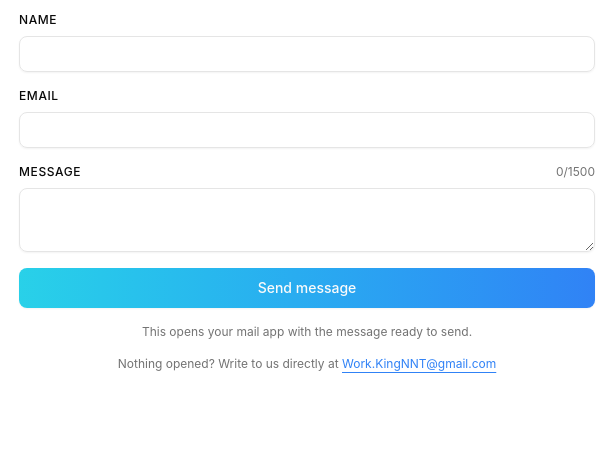
Scenario: ContactForm › clears the errors once the visitor fixes them
Click the button "Send message" at {"x": 307, "y": 288}, box [19, 268, 595, 308]
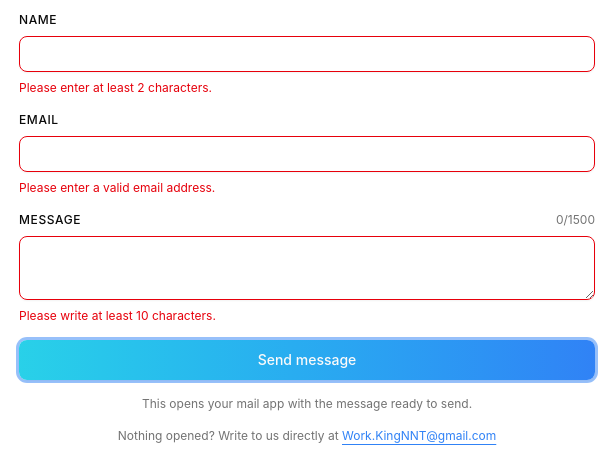
Expected: the text "Please enter a valid email address." is shown, [19, 180, 215, 195]
Type "Ann" into the field labelled "Name" at {"x": 307, "y": 54}, box [19, 36, 595, 72]
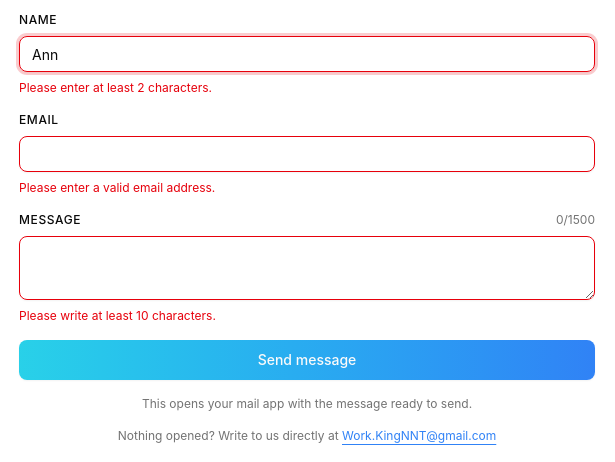
Type "a@b.com" into the field labelled "Email" at {"x": 307, "y": 154}, box [19, 136, 595, 172]
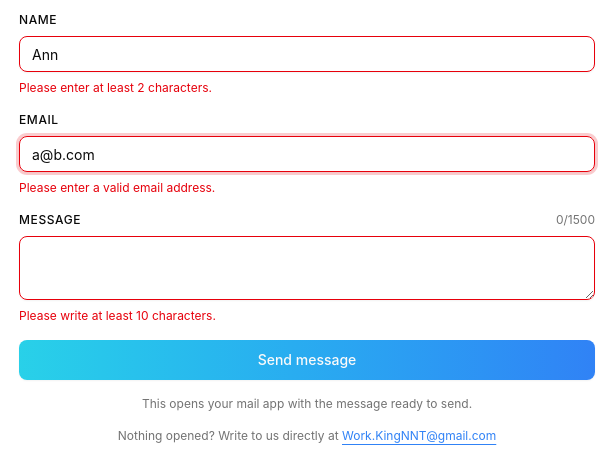
Type "hello there friend" into the text box labelled "Message" at {"x": 307, "y": 268}, box [19, 236, 595, 300]
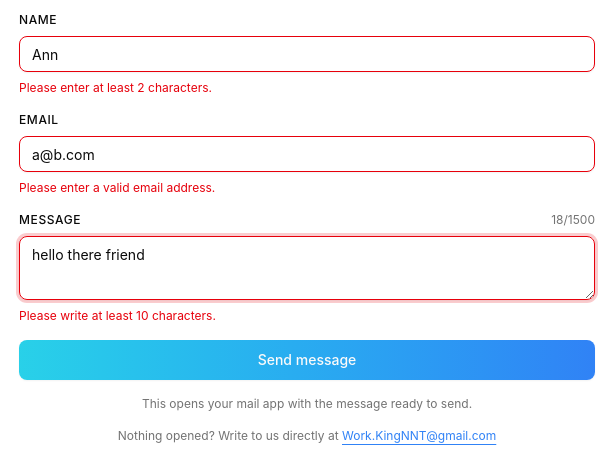
Click the button "Send message" at {"x": 307, "y": 360}, box [19, 340, 595, 380]
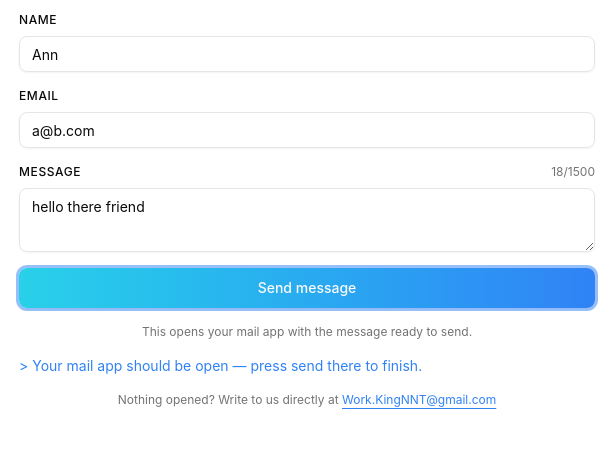
Expected: the text "Please enter a valid email address." is gone
